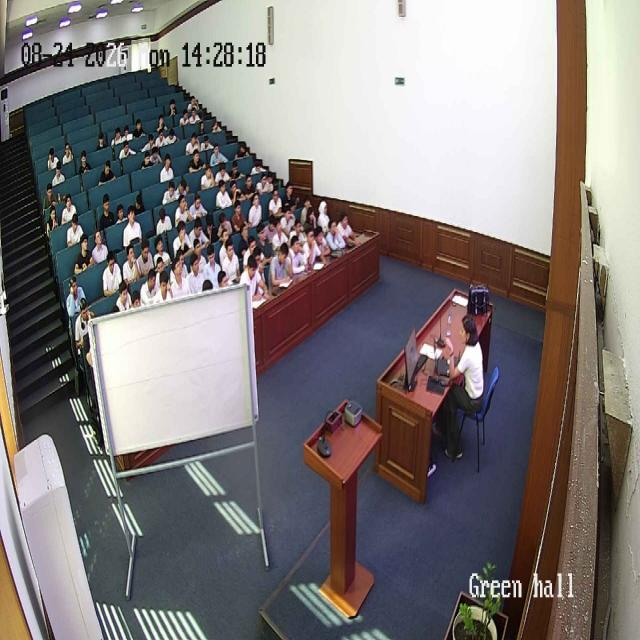person: (435, 314, 485, 460), (240, 255, 270, 303), (269, 241, 293, 287), (185, 248, 208, 295), (102, 248, 123, 299), (66, 273, 88, 321), (219, 238, 241, 284), (201, 242, 223, 288), (73, 298, 91, 352), (236, 231, 258, 275), (169, 255, 191, 299), (302, 227, 324, 270), (289, 233, 311, 275), (72, 231, 92, 277), (122, 242, 142, 287), (137, 235, 157, 279), (98, 194, 118, 236), (152, 232, 172, 273), (122, 207, 142, 248), (325, 216, 347, 253), (140, 268, 162, 305), (336, 212, 361, 244), (90, 226, 110, 266), (174, 190, 192, 233), (313, 223, 333, 261), (66, 209, 84, 249), (247, 192, 265, 231), (42, 180, 60, 218), (114, 280, 134, 313), (279, 178, 297, 214), (61, 192, 79, 228), (162, 180, 180, 216), (228, 194, 246, 228), (45, 203, 61, 241), (132, 187, 150, 220), (267, 183, 283, 219), (255, 222, 271, 257), (200, 209, 218, 240), (99, 158, 117, 188), (158, 155, 176, 184), (216, 206, 233, 236), (271, 221, 289, 249), (77, 147, 93, 177), (50, 159, 66, 187), (282, 201, 296, 232), (189, 146, 204, 174), (117, 136, 134, 160), (192, 212, 204, 246), (318, 195, 330, 228), (108, 126, 124, 149), (198, 127, 214, 150), (301, 193, 313, 222), (210, 141, 225, 164), (214, 181, 227, 207), (64, 142, 76, 170), (303, 208, 317, 232), (216, 161, 231, 183), (241, 172, 254, 197), (229, 179, 241, 206), (95, 131, 107, 157), (201, 164, 215, 186), (236, 138, 250, 159), (121, 119, 134, 141), (188, 102, 202, 122), (138, 150, 152, 169), (157, 128, 169, 150), (151, 142, 163, 164), (257, 172, 270, 192), (231, 157, 242, 180), (48, 150, 60, 170), (188, 91, 202, 108), (142, 133, 155, 151), (188, 130, 199, 151), (117, 198, 125, 226), (252, 158, 265, 174), (179, 108, 190, 126), (195, 114, 206, 132), (134, 116, 144, 135), (168, 98, 178, 116), (156, 116, 166, 132), (212, 117, 221, 131)
